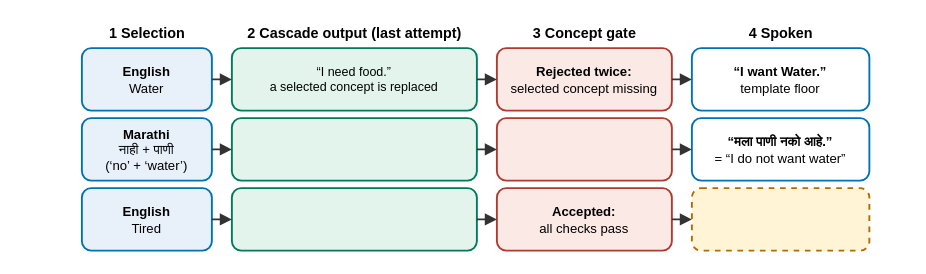
This 926x274 diagram has some shape labels left out. The box of each missing label's shape, as (x1, y1, x2, y2) in pixels:
Rejected twice: negation mismatch: (495, 117, 672, 181)
same sentence is spoken gate miss: third person, content added: (690, 187, 870, 251)
“The user is tired of waiting for their meal and wants to go out to eat.”: (230, 187, 477, 251)
“मला पाणी हवे आहे.” = “I want water”: polarity inverted: (230, 117, 477, 181)
